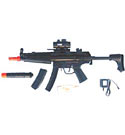rifle: (11, 42, 118, 76)
